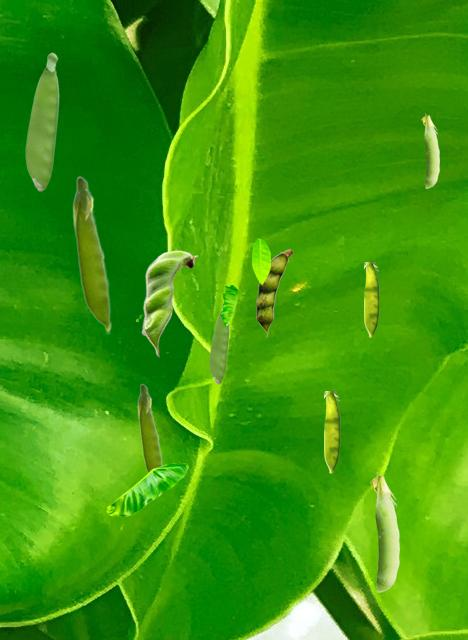pea: (72, 175, 111, 333), (141, 250, 197, 356), (25, 52, 58, 190), (370, 472, 398, 591), (256, 249, 292, 336), (137, 383, 162, 472), (209, 302, 228, 383), (421, 113, 438, 187), (324, 391, 339, 472), (364, 262, 378, 336)
